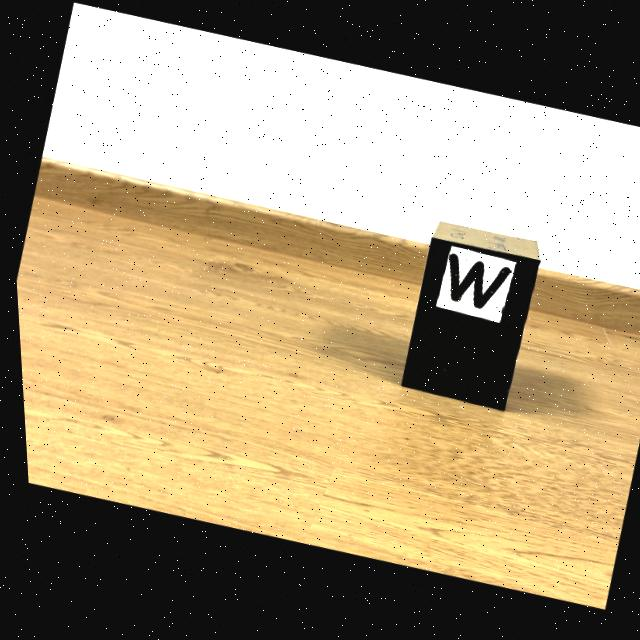W: (445, 258, 507, 313)
